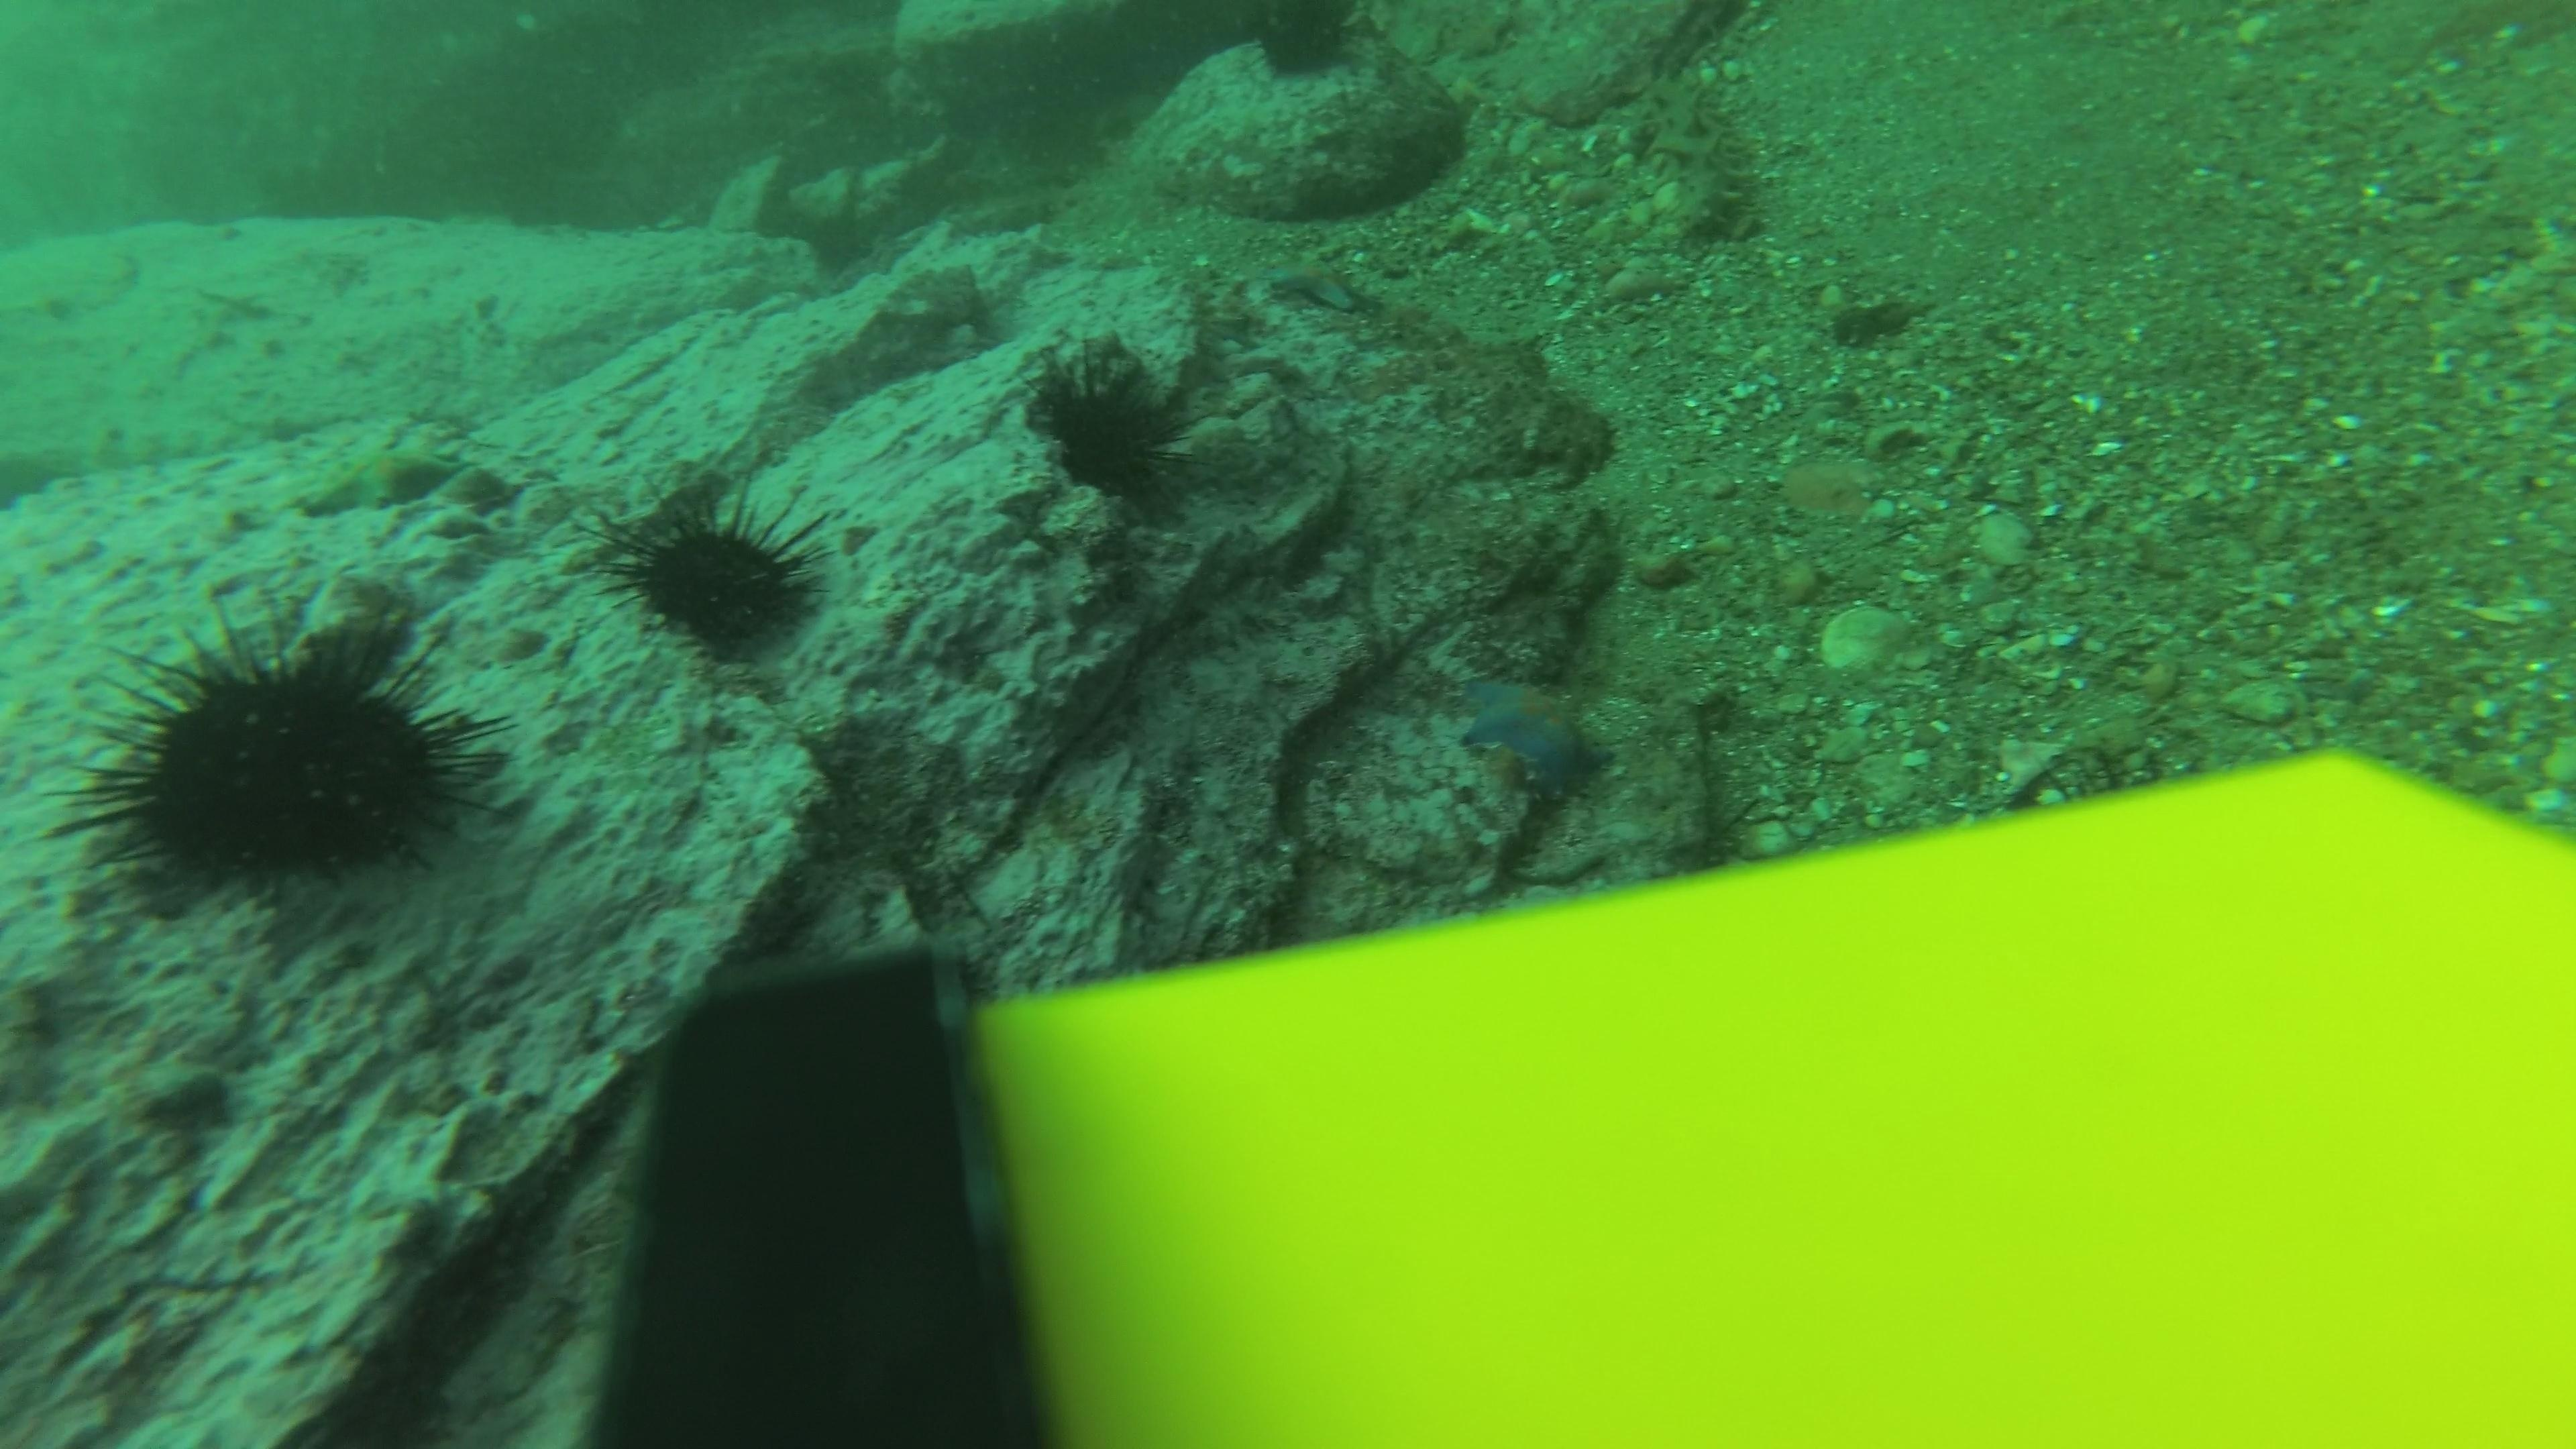echinus: (73, 600, 501, 901), (594, 476, 833, 662), (1019, 334, 1198, 511), (1240, 0, 1369, 83)
holothurian: (1637, 58, 1773, 258)
starfish: (1451, 669, 1614, 798), (292, 442, 474, 520), (1258, 258, 1371, 317)
